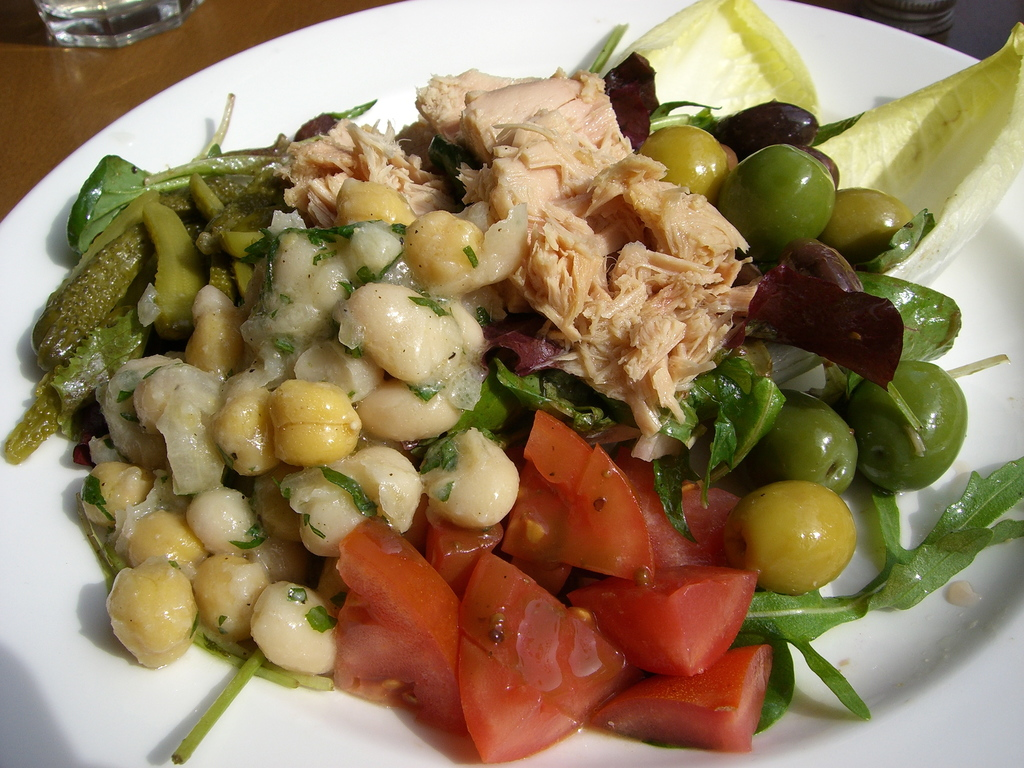salad: (10, 0, 1023, 767)
